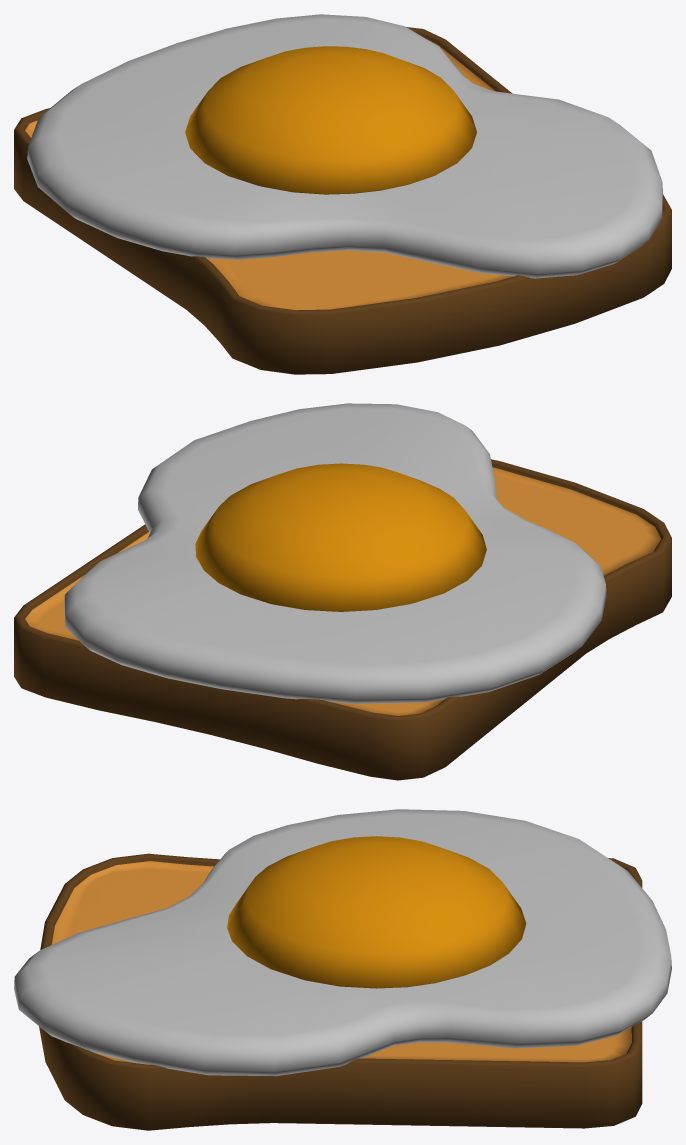
The model's file is Sandwich_3.FBX.
3 renders of one model, top to bottom at view 1: azimuth 30°, elevation 25°; view 2: azimuth 150°, elevation 25°; view 3: azimuth 270°, elevation 25°, orthographic. The views are drawn at different scales.
Visible parts, largest first — view 1: Sandwich_3; view 2: Sandwich_3; view 3: Sandwich_3.
Part boxes in pixels (bbox=[...]): Sandwich_3: bbox=[14, 14, 671, 374]; Sandwich_3: bbox=[14, 403, 671, 780]; Sandwich_3: bbox=[14, 809, 671, 1130].
Size of the model in its own units: 1022 by 1155 by 313.
